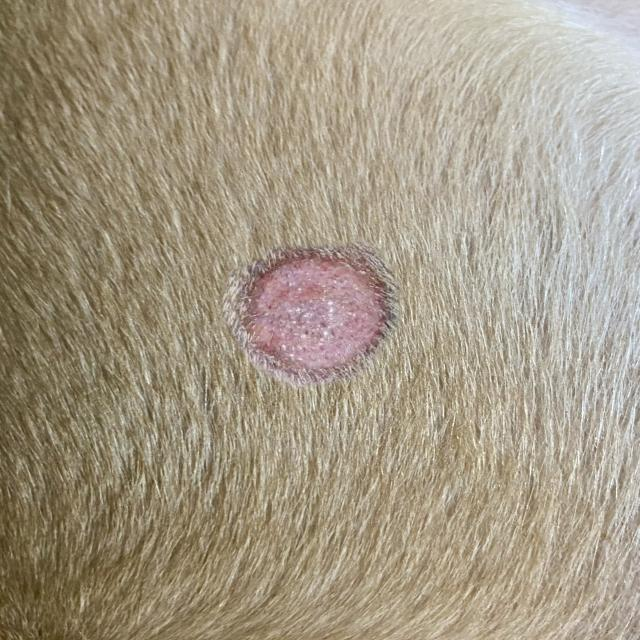ringworm: (206, 243, 428, 389)
